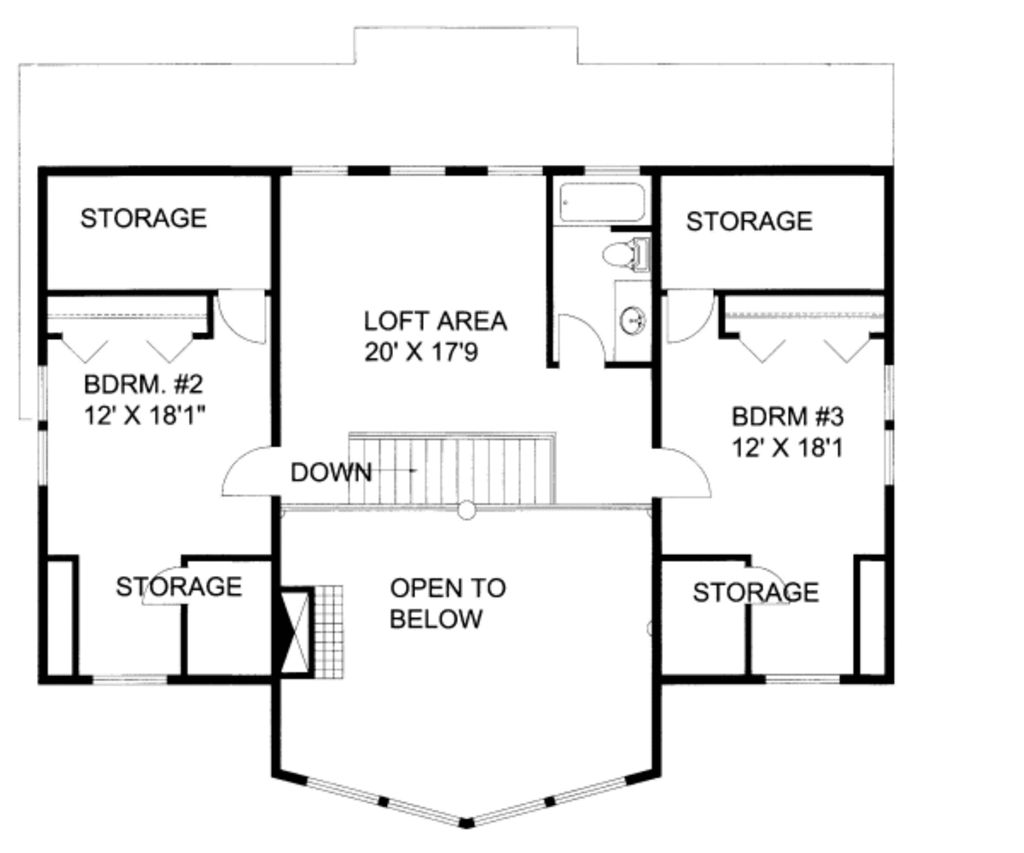door: (205, 428, 278, 501), (212, 284, 277, 361), (661, 281, 715, 351), (553, 307, 606, 372), (653, 437, 711, 495), (743, 562, 798, 612), (133, 570, 199, 606)
large_sink: (602, 227, 651, 278)
small_sink: (614, 285, 652, 362)
stairs: (335, 414, 545, 531)
tub: (558, 176, 644, 223)
window: (294, 772, 635, 826), (285, 159, 637, 180), (26, 355, 52, 489), (882, 357, 901, 486), (83, 666, 172, 691), (765, 666, 840, 695)
